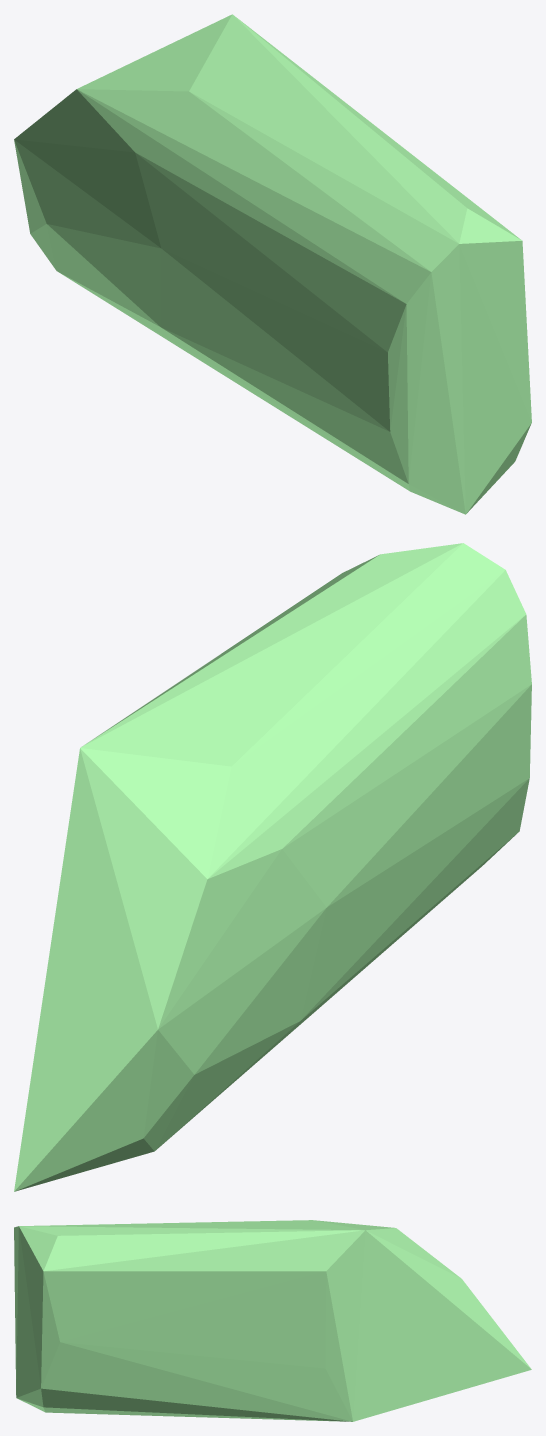
Rendered from Panda_link5_respondable_coll_6.dae.
The picture shows the model from 3 angles, top to bottom: view 1: azimuth 30°, elevation 25°; view 2: azimuth 150°, elevation 25°; view 3: azimuth 270°, elevation 25°; orthographic projection. The views are drawn at different scales.
Parts seen in each view (by area): view 1: Node_0x7f9e8a2a2160; view 2: Node_0x7f9e8a2a2160; view 3: Node_0x7f9e8a2a2160.
Boxes of the visible parts, bbox=[...] form: Node_0x7f9e8a2a2160: bbox=[14, 14, 531, 514]; Node_0x7f9e8a2a2160: bbox=[14, 543, 531, 1191]; Node_0x7f9e8a2a2160: bbox=[14, 1220, 531, 1421].
Bounding box in the file's own units: 0.0441 × 0.0678 × 0.1657.
